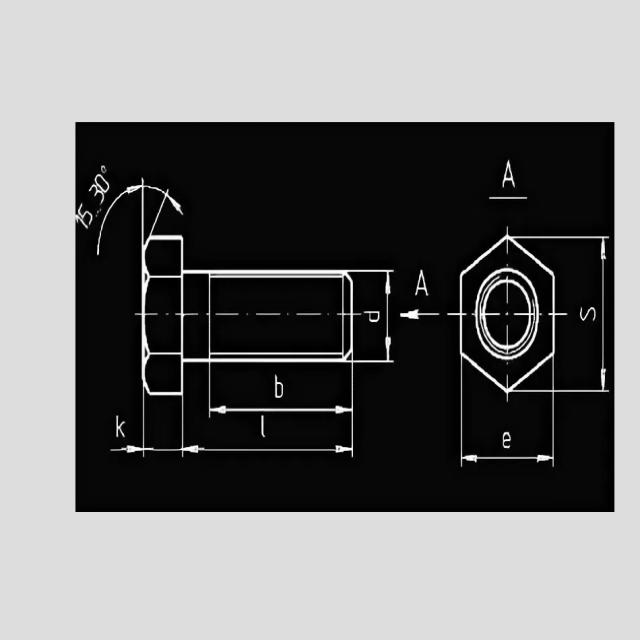marking_line: (95, 180, 140, 263), (208, 403, 351, 419), (183, 443, 351, 456), (135, 182, 170, 238), (598, 239, 609, 390), (462, 451, 554, 465), (384, 273, 394, 356), (165, 191, 187, 220), (400, 308, 432, 327), (110, 445, 146, 456)
numeric: (89, 174, 115, 204), (75, 203, 92, 236)
